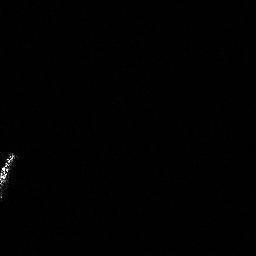ship: (1, 148, 21, 207)
